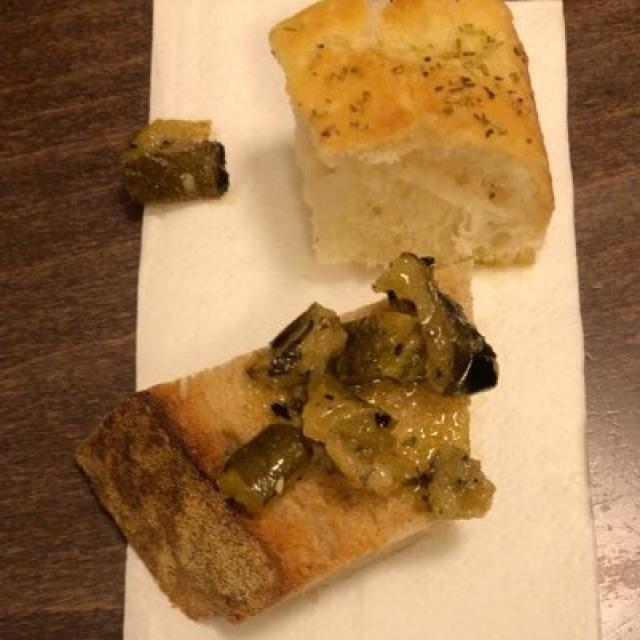bread: (95, 1, 543, 612)
zucchini: (250, 269, 489, 537)
